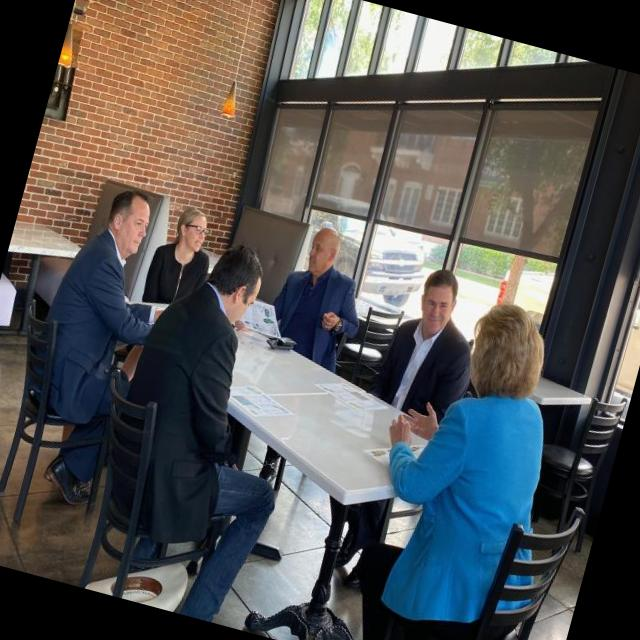bareface: (412, 268, 467, 346), (106, 188, 160, 262), (298, 226, 342, 286), (175, 205, 218, 259)
